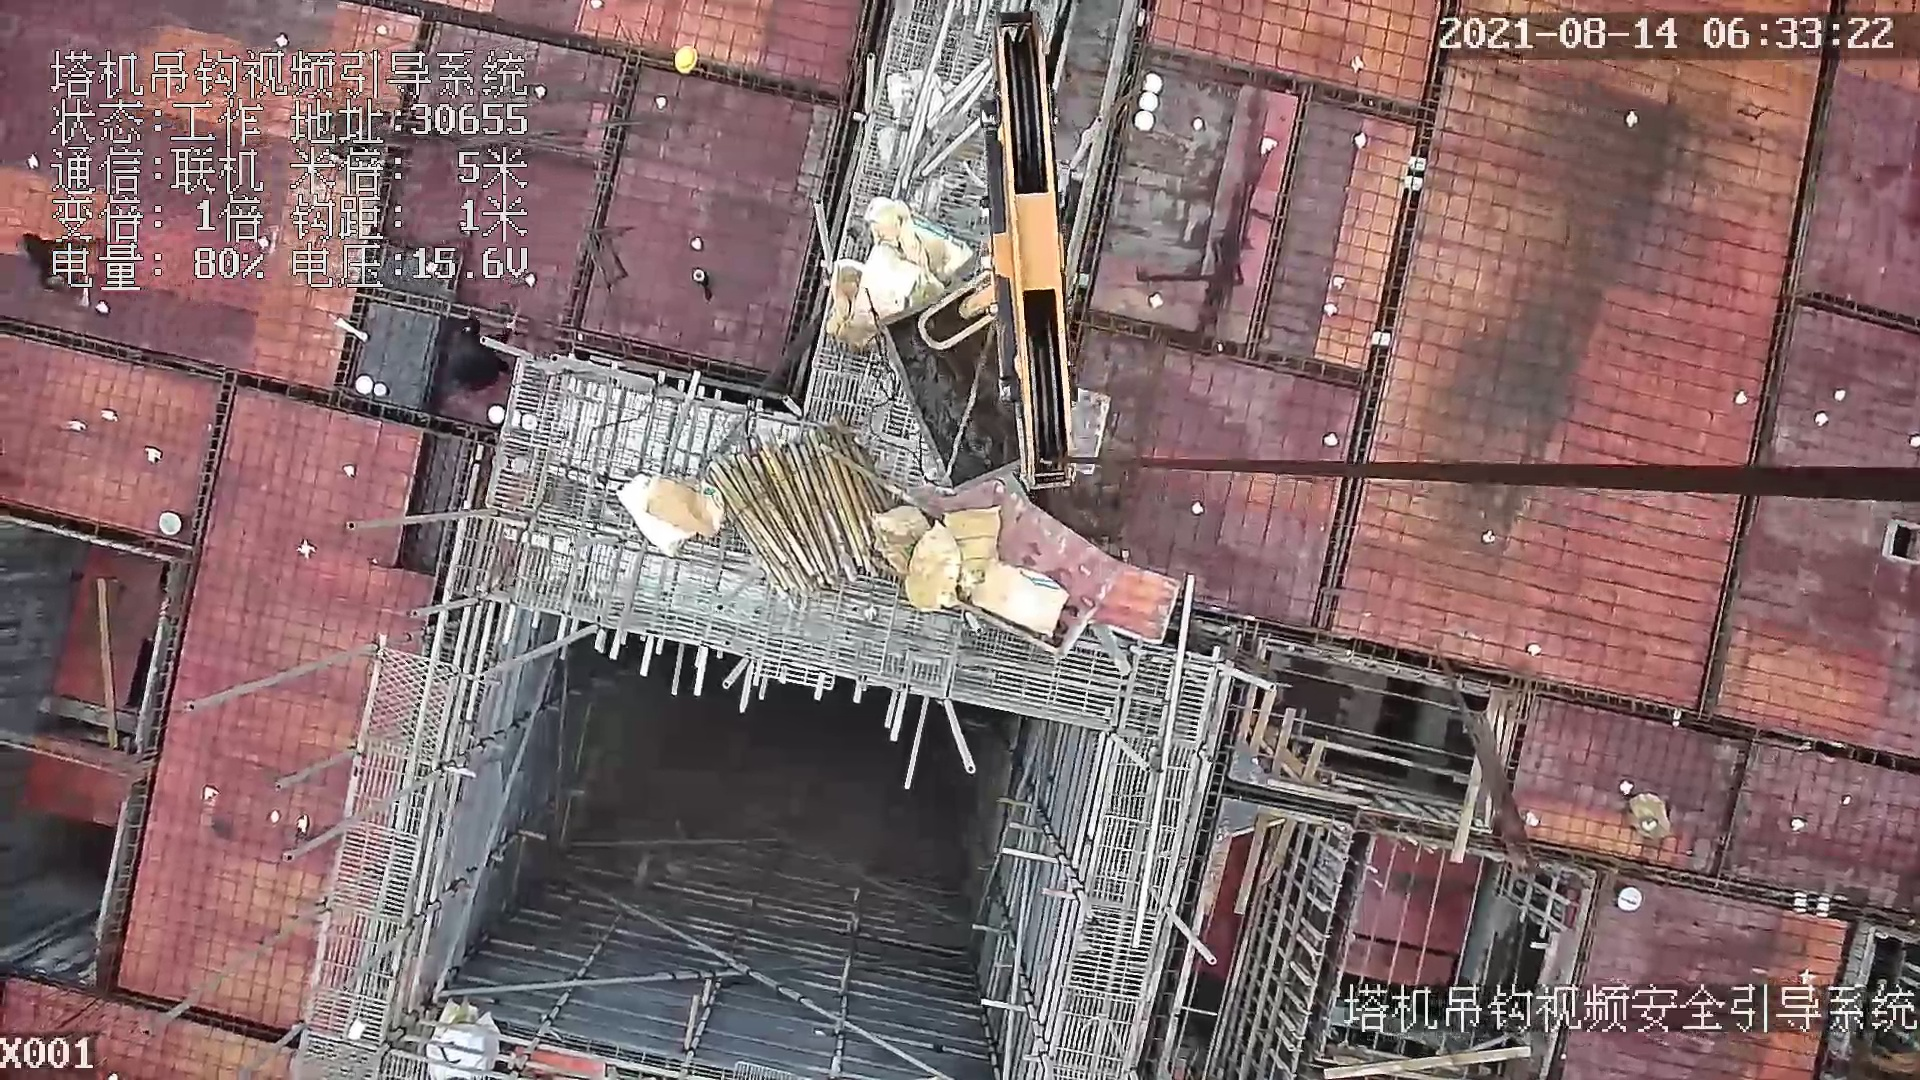helmet: (673, 45, 705, 76)
hook: (918, 12, 1076, 495)
hopper: (878, 306, 1044, 501)
scaffold: (704, 430, 887, 599)
